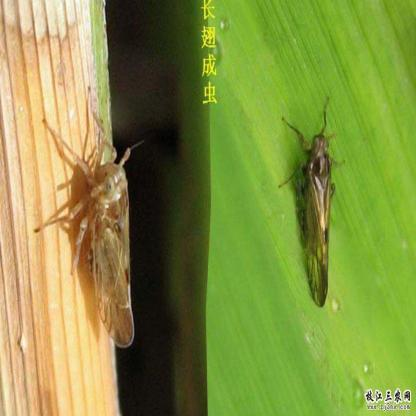brown-planthopper: (77, 156, 137, 349), (300, 132, 335, 308)
